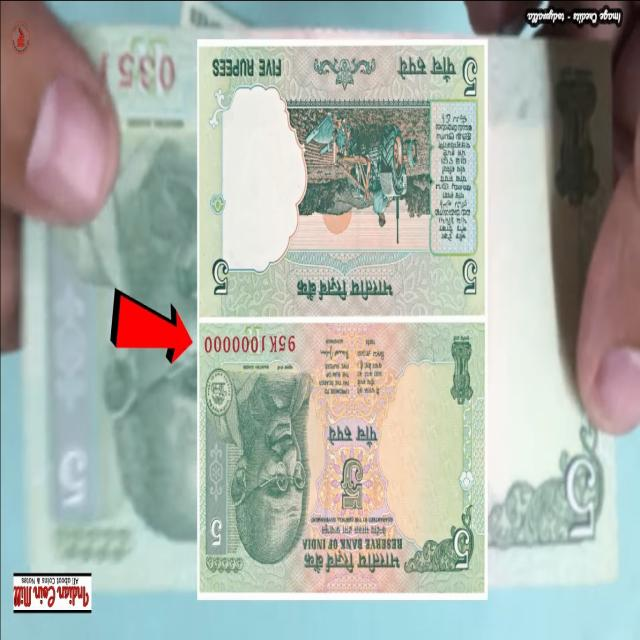5IndianRupees: (199, 48, 484, 319)
